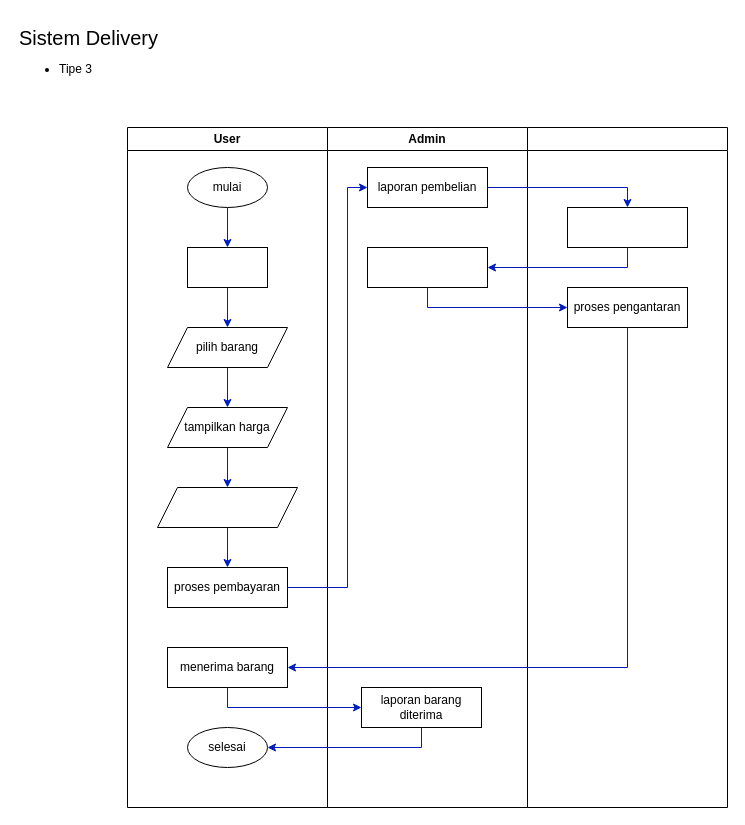
The diagram is 745 pixels wide and 825 high, and some of its shapes have lost their labels. Each missing label, with the box of its shape:
Kurir: (526, 126, 728, 808)
laporan pengantaran: (366, 246, 488, 288)
login: (186, 246, 268, 288)
masukkan alamat pengantaran: (156, 486, 298, 528)
persiapan pengantaran: (566, 206, 688, 248)
